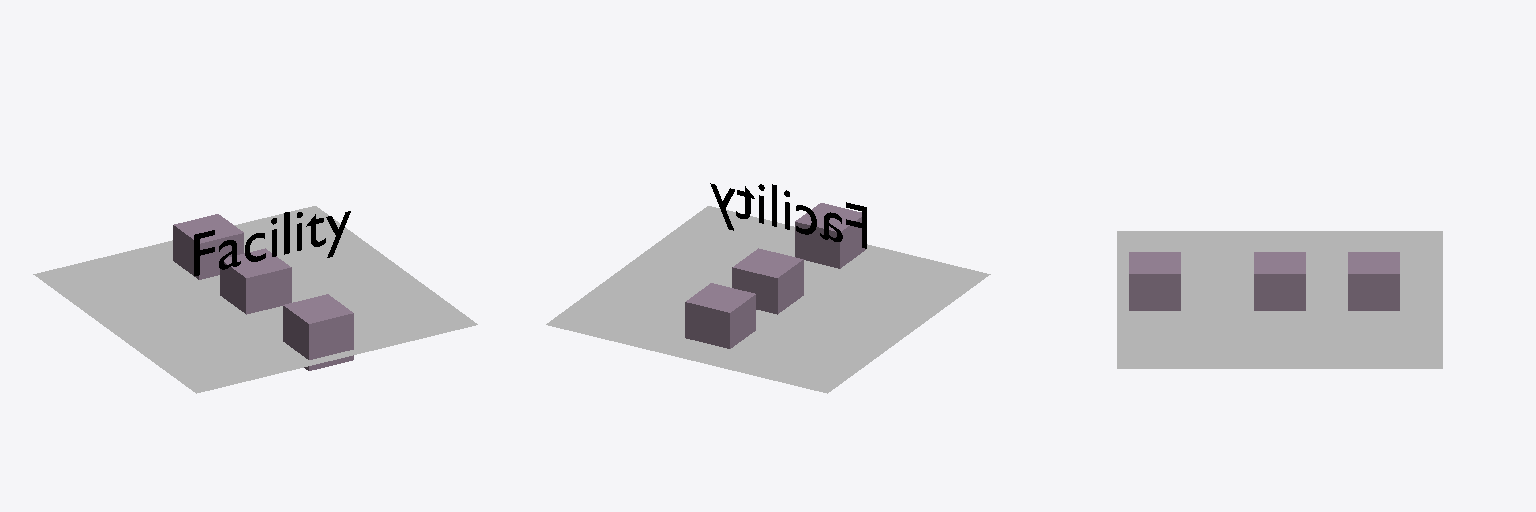
The model's file is facility.obj.
The picture shows the model from 3 angles: view 1: azimuth 30°, elevation 25°; view 2: azimuth 150°, elevation 25°; view 3: azimuth 270°, elevation 25°; orthographic projection.
Parts seen in each view (by area): view 1: Plane, Cube.001, Cube, Cube.002, Text_Text.001; view 2: Plane, Cube.002, Cube, Cube.001, Text_Text.001; view 3: Plane, Cube, Cube.001, Cube.002.
Boxes of the visible parts, x1,y1,x2,y2 form: Plane: [33, 206, 477, 393]; Cube.001: [283, 294, 353, 370]; Cube: [220, 248, 291, 314]; Cube.002: [173, 214, 243, 279]; Text_Text.001: [194, 211, 350, 275]; Plane: [546, 206, 990, 393]; Cube.002: [685, 283, 755, 348]; Cube: [732, 248, 803, 314]; Cube.001: [795, 203, 865, 268]; Text_Text.001: [710, 183, 866, 248]; Plane: [1117, 231, 1442, 368]; Cube: [1254, 252, 1305, 310]; Cube.001: [1129, 252, 1180, 310]; Cube.002: [1348, 252, 1399, 310].
Bounding box in the file's own units: 2 × 0.7387 × 2.